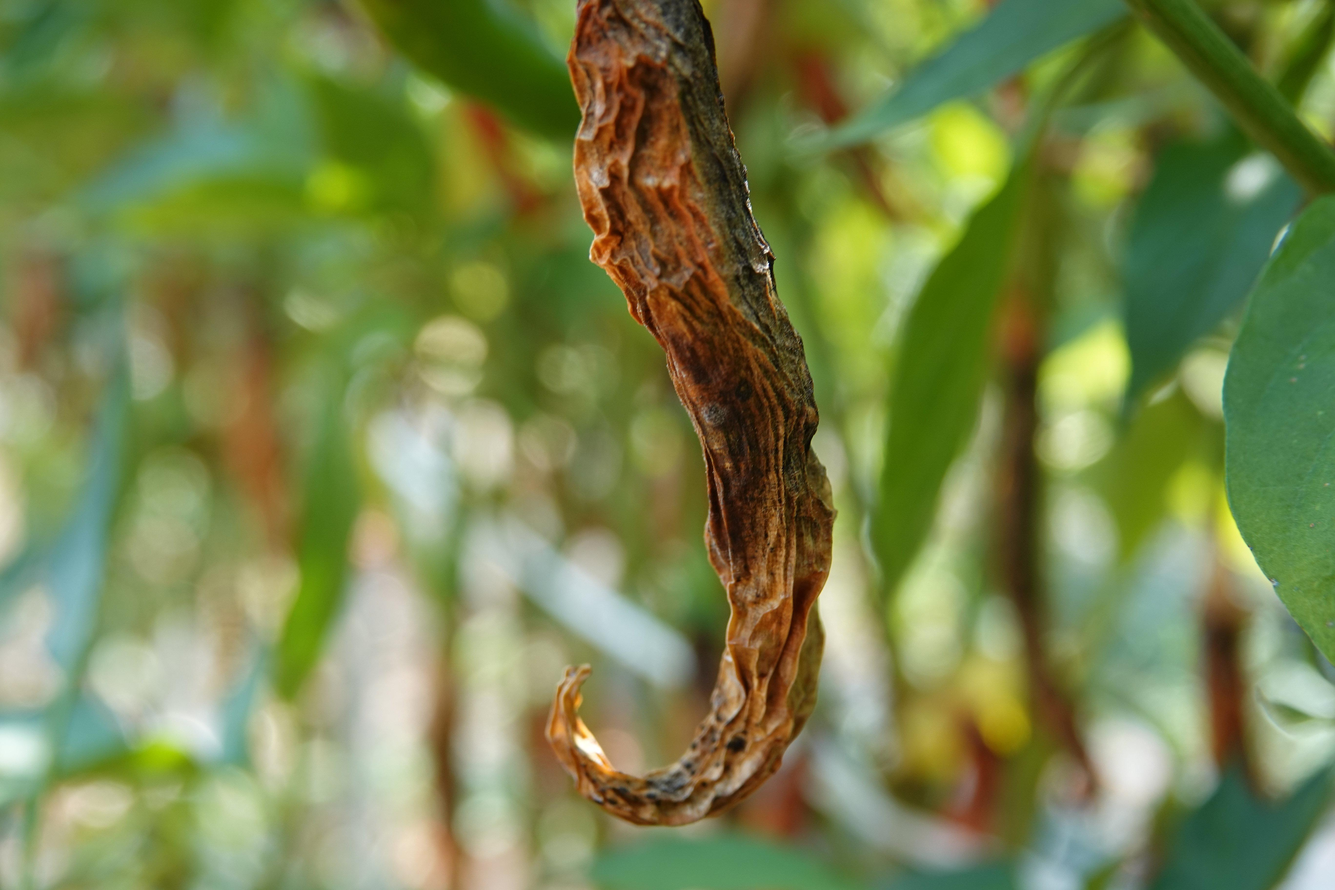Busuk Buah Antraknosa: (543, 1, 839, 829)
